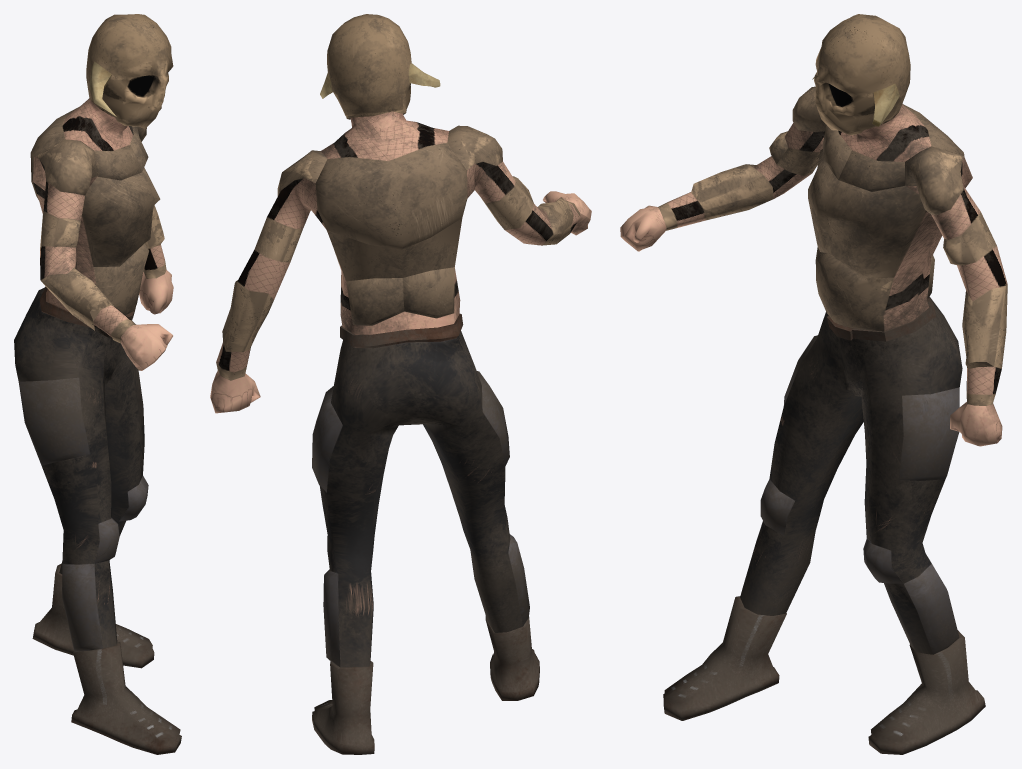
File: Anim_interruptor_npc1.0031.obj
The picture shows the model from 3 angles, left to right: view 1: azimuth 30°, elevation 25°; view 2: azimuth 150°, elevation 25°; view 3: azimuth 270°, elevation 25°; orthographic projection. The views are drawn at different scales.
Parts seen in each view (by area): view 1: NPC2; view 2: NPC2; view 3: NPC2.
Part boxes in pixels (x1,y1,x2,y2): NPC2: [14, 14, 181, 754]; NPC2: [210, 14, 591, 754]; NPC2: [620, 14, 1007, 754].
Size of the model in its own units: 3.38 by 9.47 by 4.63.
